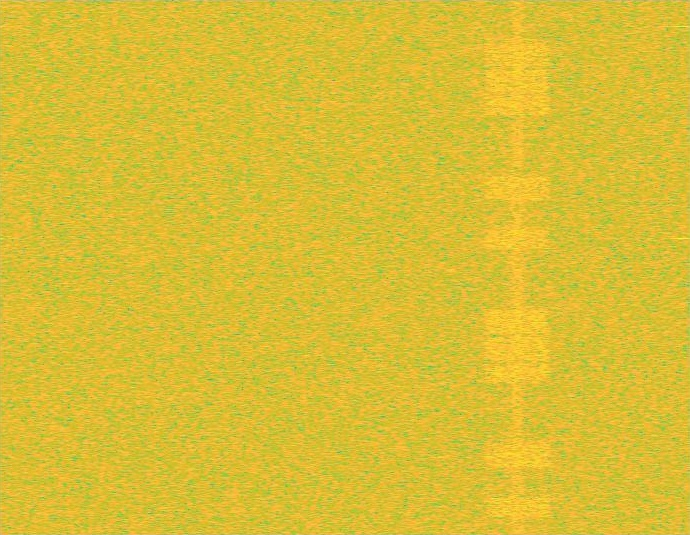DSSS: (510, 0, 525, 534)
LTE: (483, 0, 552, 534)
Radar: (676, 0, 689, 534)
